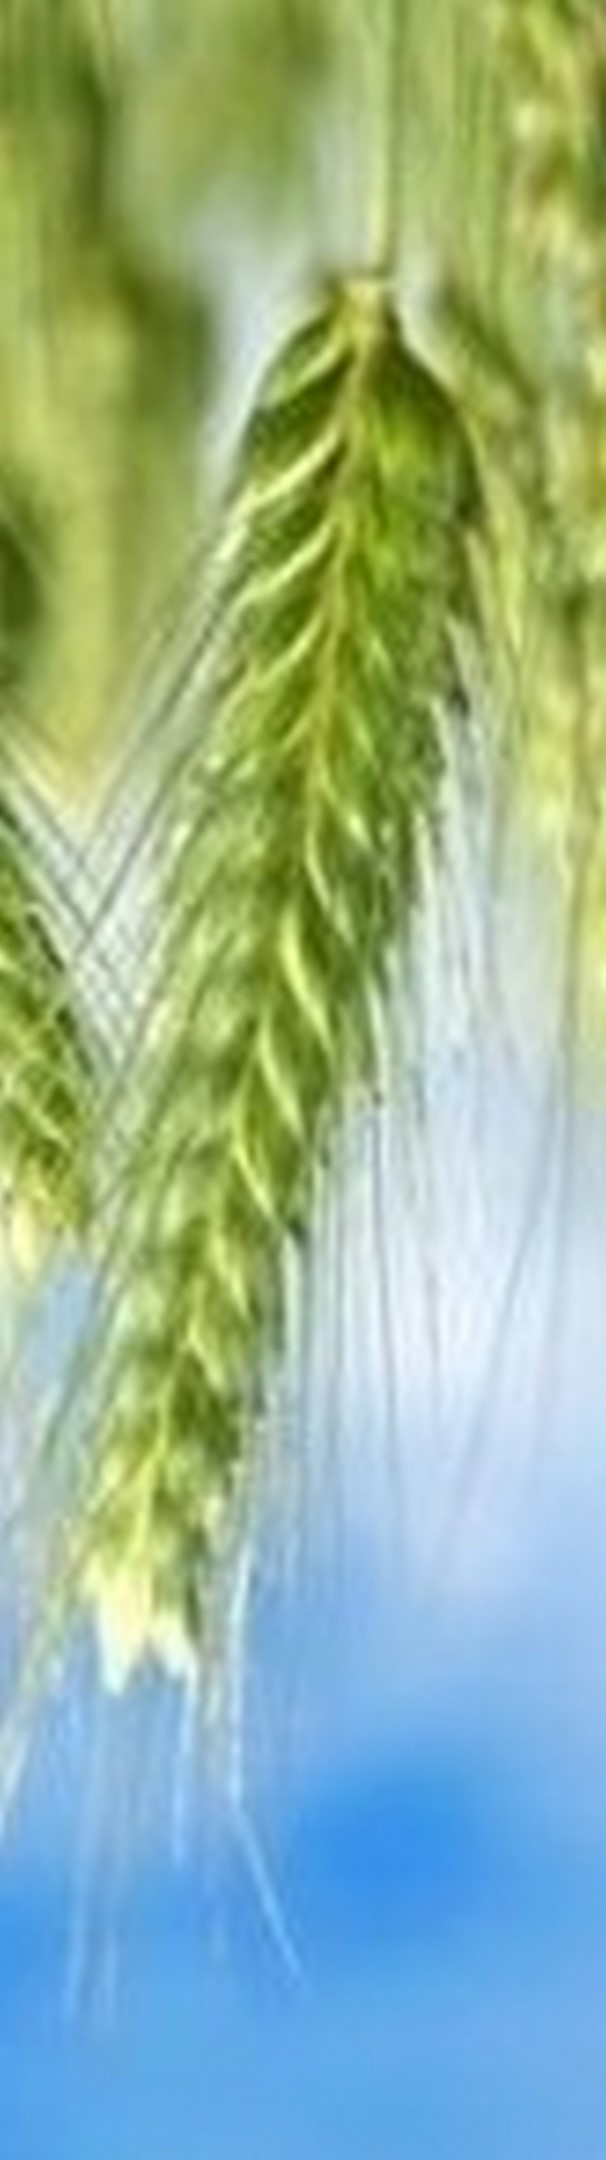Healthy Wheat: (58, 256, 558, 1732)
